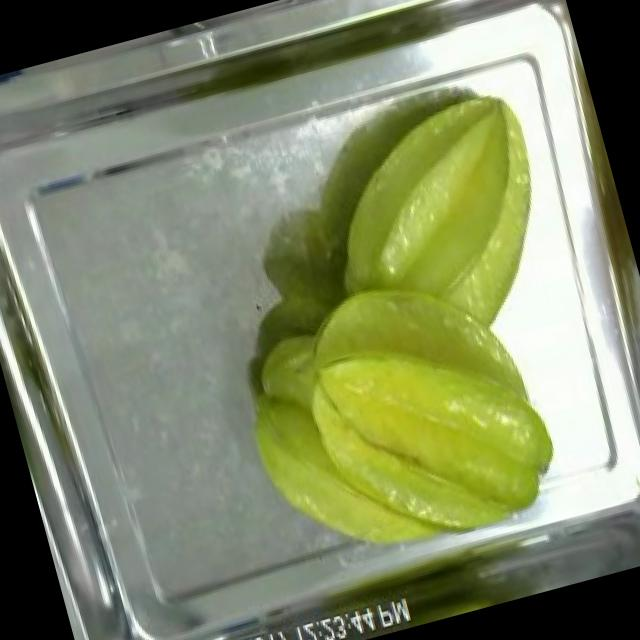fruit: (263, 237, 576, 575), (286, 72, 578, 362)
